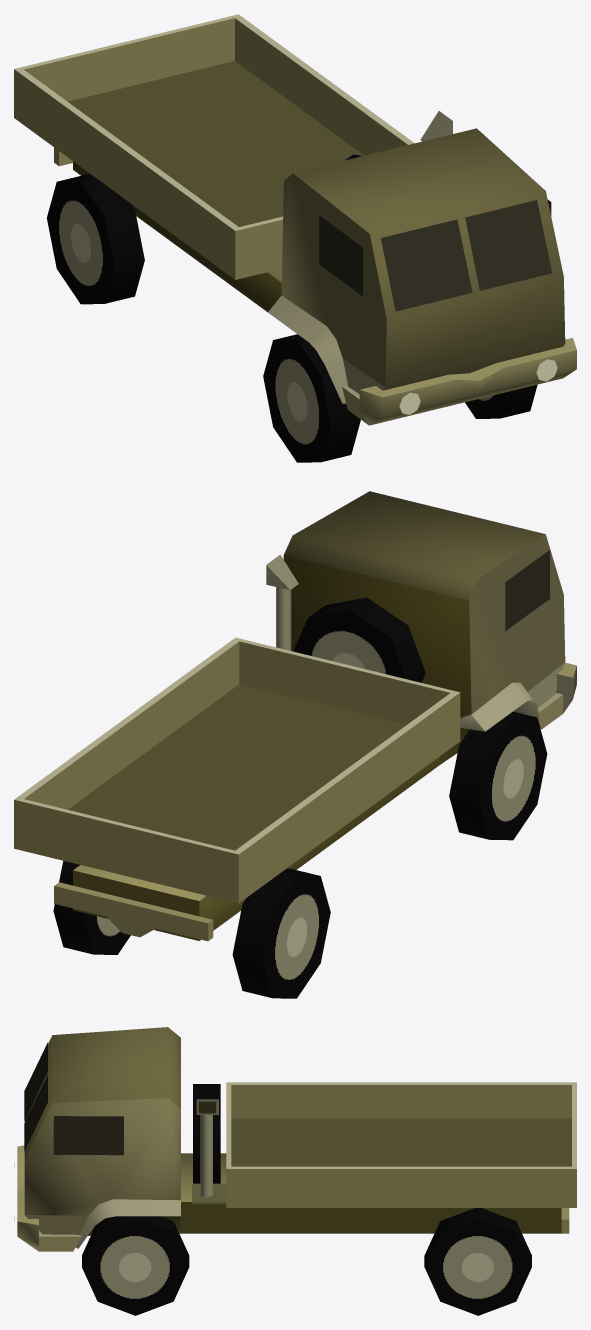
The model's file is lmtv.dae.
3 renders of one model, top to bottom at view 1: azimuth 30°, elevation 25°; view 2: azimuth 150°, elevation 25°; view 3: azimuth 270°, elevation 25°, orthographic. The views are drawn at different scales.
Visible parts, largest first — view 1: _1131_LMTV; view 2: _1131_LMTV; view 3: _1131_LMTV.
Part boxes in pixels (x1,y1,x2,y2): _1131_LMTV: (14, 14, 576, 462); _1131_LMTV: (14, 491, 576, 998); _1131_LMTV: (14, 1027, 576, 1315).
Size of the model in its own units: 699 by 804 by 1915.
Materials: 1 (1 with a texture image).
